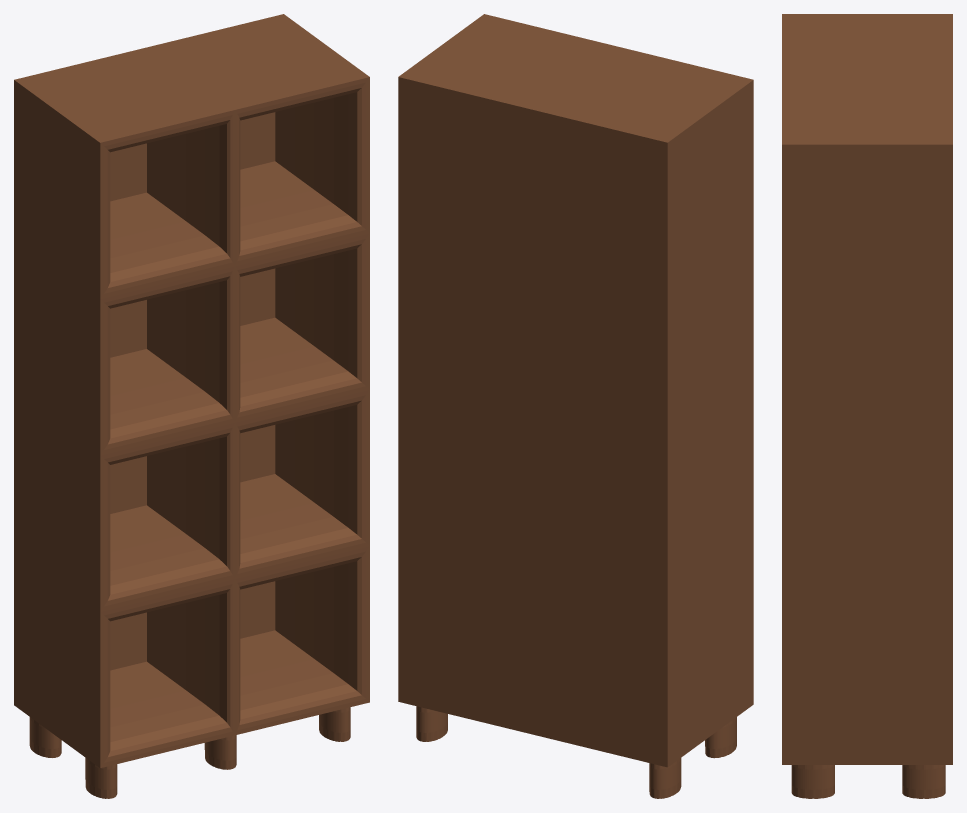
Rendered from Regal4x2smooth.fbx.
The picture shows the model from 3 angles, left to right: view 1: azimuth 30°, elevation 25°; view 2: azimuth 150°, elevation 25°; view 3: azimuth 270°, elevation 25°; orthographic projection.
Visible parts, largest first — view 1: Cylinder.002; view 2: Cylinder.002; view 3: Cylinder.002.
Boxes of the visible parts, box(x1,y1,x2,y2) form: Cylinder.002: box(14, 14, 369, 798); Cylinder.002: box(398, 14, 753, 798); Cylinder.002: box(782, 14, 952, 798).
Size of the model in its own units: 168 by 395 by 92.73.
